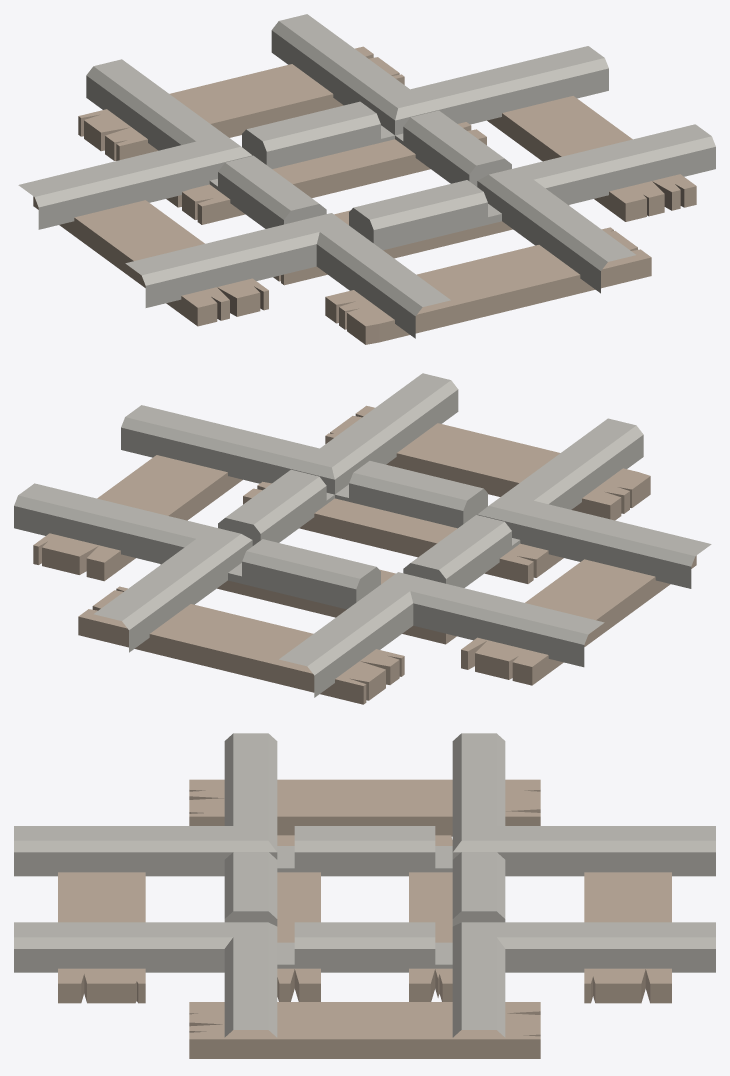
Rendered from Cave_Prop_Railway_Intersection.glb.
3 renders of one model, top to bottom at view 1: azimuth 30°, elevation 25°; view 2: azimuth 150°, elevation 25°; view 3: azimuth 270°, elevation 25°, orthographic. The views are drawn at different scales.
Visible parts, largest first — view 1: Cave_Prop_Railway_Intersection; view 2: Cave_Prop_Railway_Intersection; view 3: Cave_Prop_Railway_Intersection.
Boxes of the visible parts, bbox=[...] form: Cave_Prop_Railway_Intersection: bbox=[18, 14, 715, 344]; Cave_Prop_Railway_Intersection: bbox=[14, 373, 711, 704]; Cave_Prop_Railway_Intersection: bbox=[14, 733, 715, 1058].
Size of the model in its own units: 2 by 0.15 by 2.
